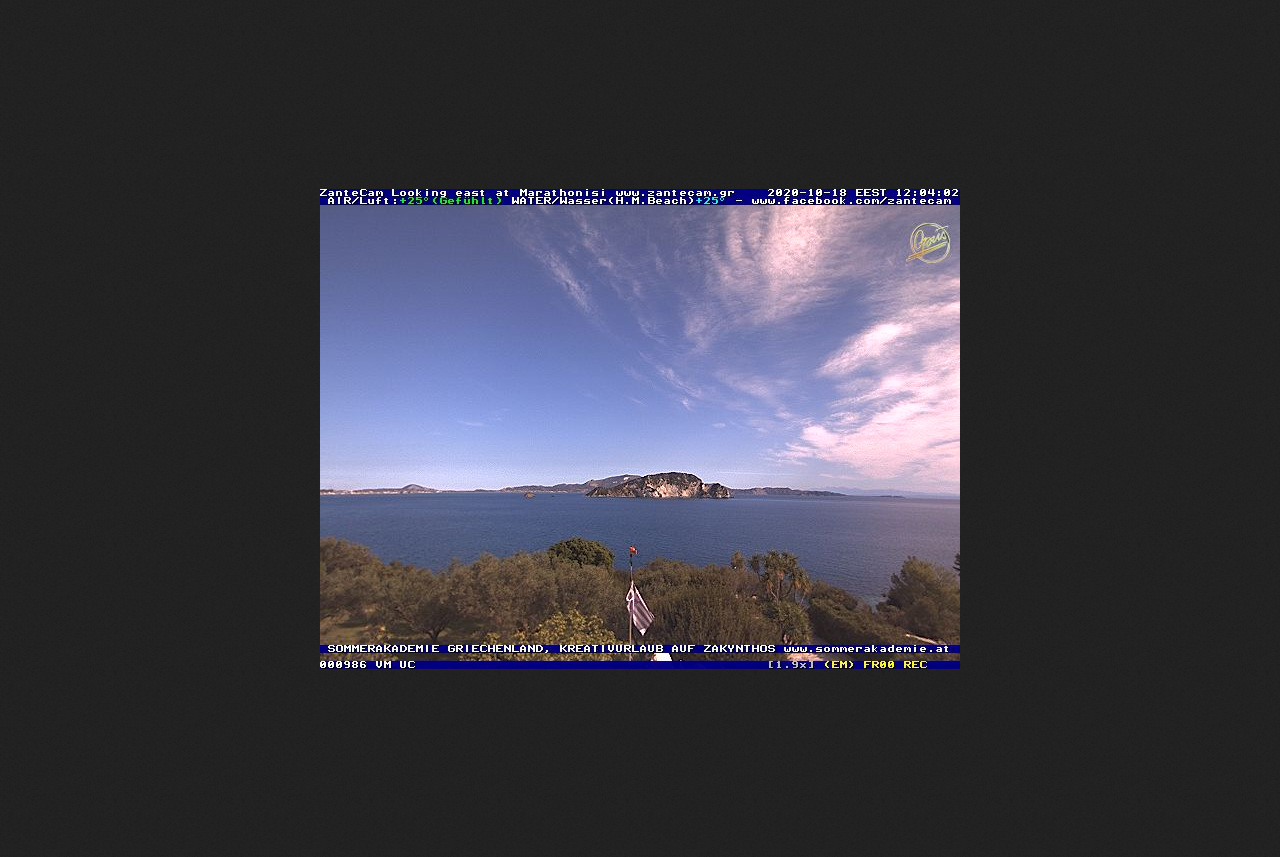maybe: (619, 580, 655, 637)
